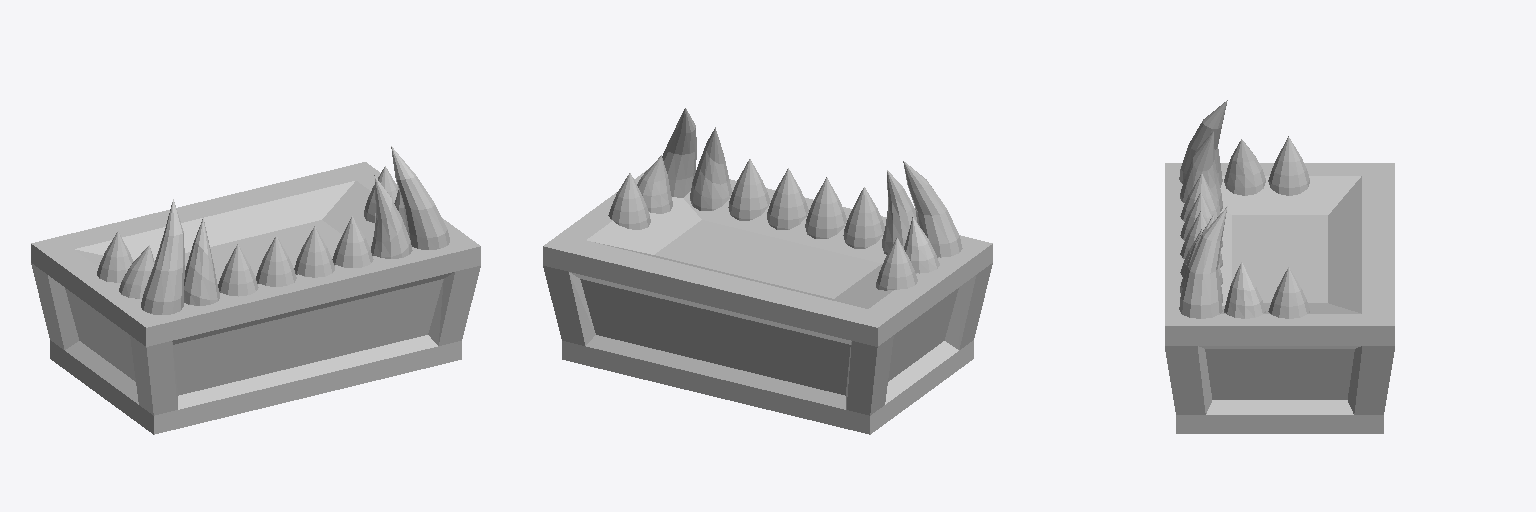
File: chest_rare_mimic.obj
The picture shows the model from 3 angles: view 1: azimuth 30°, elevation 25°; view 2: azimuth 150°, elevation 25°; view 3: azimuth 270°, elevation 25°; orthographic projection.
Parts seen in each view (by area): view 1: chest_rare_mimic_Cube.4000; view 2: chest_rare_mimic_Cube.4000; view 3: chest_rare_mimic_Cube.4000.
Part boxes in pixels (x1,y1,x2,y2): chest_rare_mimic_Cube.4000: (31,146,480,434); chest_rare_mimic_Cube.4000: (543,108,992,434); chest_rare_mimic_Cube.4000: (1165,100,1394,433).
Bounding box in the file's own units: 1.84 × 1.08 × 1.1.